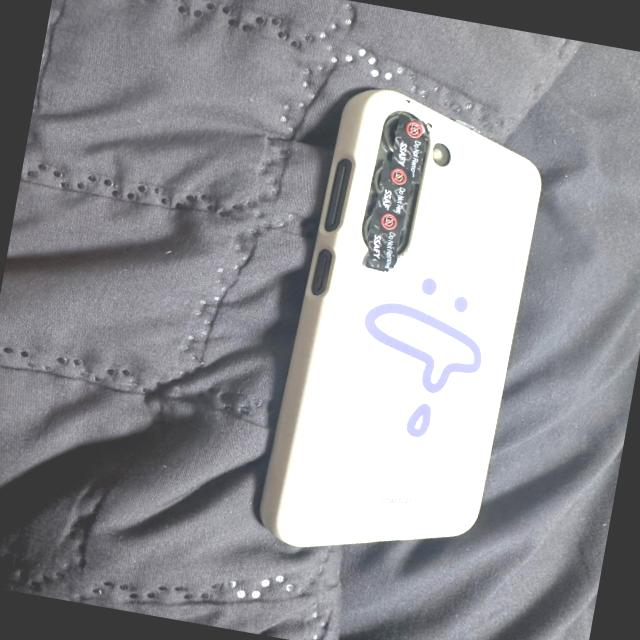phone: (258, 81, 556, 577)
removed_sticker: (388, 116, 429, 179), (363, 207, 402, 273), (374, 161, 414, 217)
